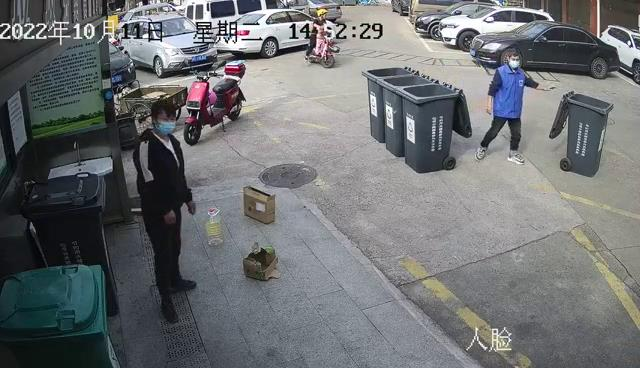person: (129, 95, 201, 327)
suliaozhipin: (203, 205, 227, 249)
worker: (470, 46, 559, 169)
zhizhipin: (240, 238, 284, 286), (240, 182, 279, 228)
